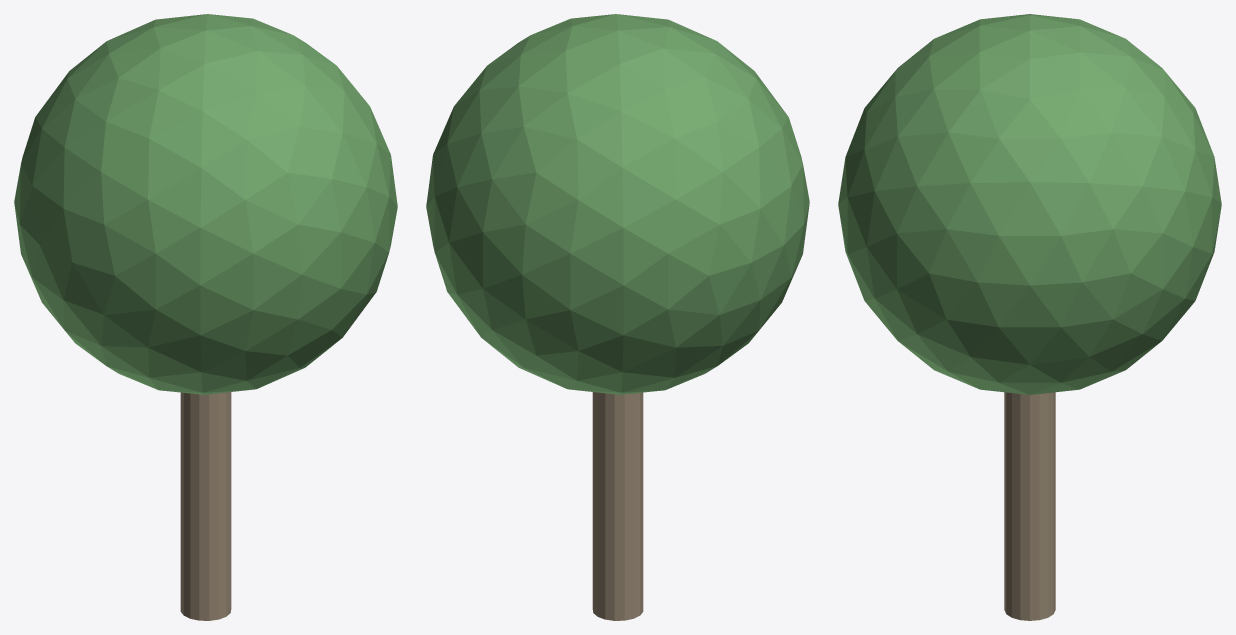
Rendered from Tree.glb.
3 renders of one model, left to right at view 1: azimuth 30°, elevation 25°; view 2: azimuth 150°, elevation 25°; view 3: azimuth 270°, elevation 25°, orthographic.
Parts seen in each view (by area): view 1: world; view 2: world; view 3: world.
Boxes of the visible parts, x1,y1,x2,y2 form: world: [14, 14, 397, 620]; world: [426, 14, 809, 620]; world: [838, 14, 1221, 620].
Size of the model in its own units: 3 by 5 by 3.
